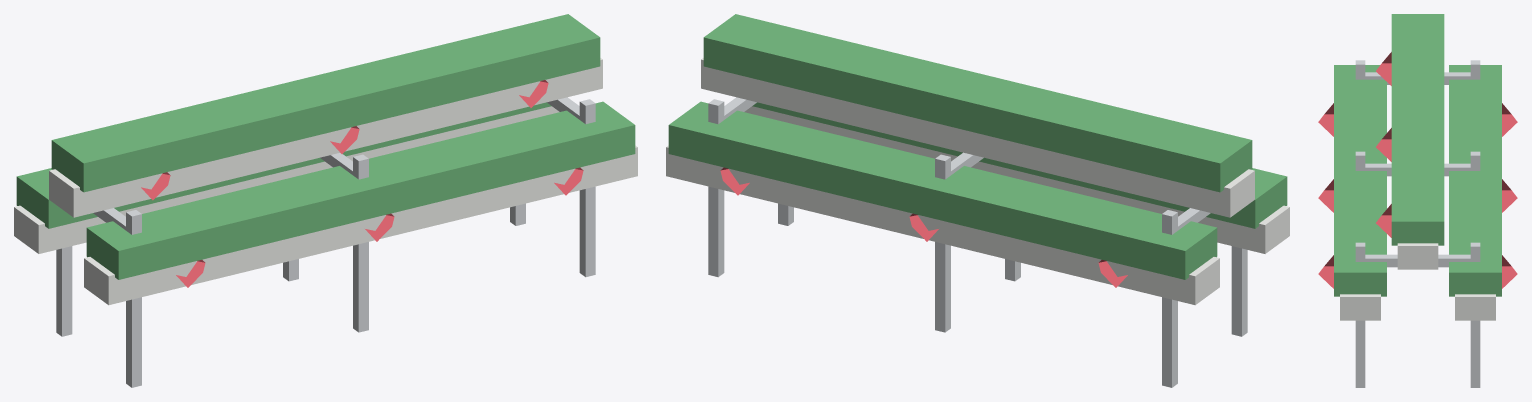
The model's file is flora_30_fragaria_ananassa_luong_dau_tay_da_lat_raised_bed.glb.
3 renders of one model, left to right at view 1: azimuth 30°, elevation 25°; view 2: azimuth 150°, elevation 25°; view 3: azimuth 270°, elevation 25°, orthographic. The views are drawn at different scales.
Visible parts, largest first — view 1: flora_30_fragaria_ananassa_luong_dau_tay_da_lat_raised_bed; view 2: flora_30_fragaria_ananassa_luong_dau_tay_da_lat_raised_bed; view 3: flora_30_fragaria_ananassa_luong_dau_tay_da_lat_raised_bed.
Boxes of the visible parts, box(x1,y1,x2,y2) form: flora_30_fragaria_ananassa_luong_dau_tay_da_lat_raised_bed: box(14, 14, 637, 387); flora_30_fragaria_ananassa_luong_dau_tay_da_lat_raised_bed: box(666, 14, 1289, 387); flora_30_fragaria_ananassa_luong_dau_tay_da_lat_raised_bed: box(1318, 14, 1517, 387).
Bounding box in the file's own units: 4.2 × 1.63 × 1.67.
